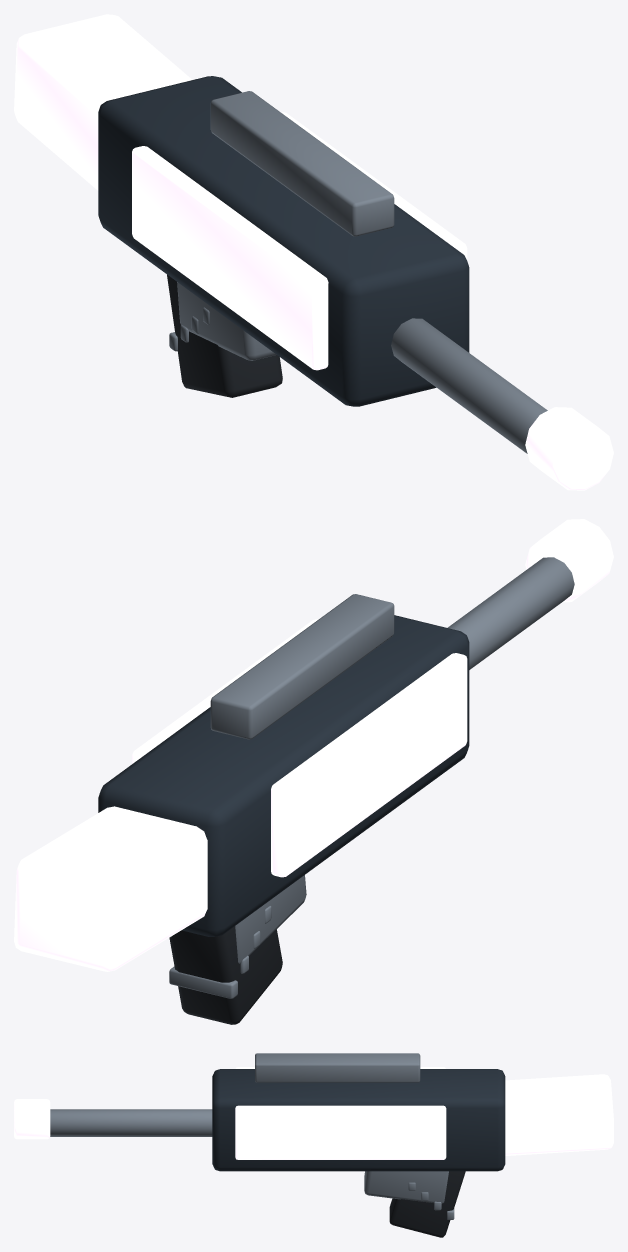
Rendered from Infiltrator_RhinoSMG.fbx.
3 views of the same model, one above another, from view 1: azimuth 30°, elevation 25°; view 2: azimuth 150°, elevation 25°; view 3: azimuth 270°, elevation 25° (orthographic). The views are drawn at different scales.
Visible parts, largest first — view 1: Receiver.005, SideArmorLeft.002, Stock.002, TopRail.005, Barrel_00.002, MuzzleBrake.002, Grip.005, CompactMagazine, SideArmorRight.002; view 2: Receiver.005, Stock.002, SideArmorLeft.002, TopRail.005, Grip.005, Barrel_00.002, MuzzleBrake.002, CompactMagazine, SideArmorRight.002, GripRib_03.005; view 3: Receiver.005, SideArmorRight.002, Stock.002, TopRail.005, Barrel_00.002, CompactMagazine, Grip.005, MuzzleBrake.002.
Part boxes in pixels (<box>): Receiver.005: <box>98,76,469,406</box>; SideArmorLeft.002: <box>132,146,328,370</box>; Stock.002: <box>14,14,192,190</box>; TopRail.005: <box>210,91,394,236</box>; Barrel_00.002: <box>391,318,547,453</box>; MuzzleBrake.002: <box>525,407,613,490</box>; Grip.005: <box>167,274,282,397</box>; CompactMagazine: <box>177,282,276,360</box>; SideArmorRight.002: <box>281,112,467,260</box>; Receiver.005: <box>98,615,469,936</box>; Stock.002: <box>14,806,207,971</box>; SideArmorLeft.002: <box>271,653,467,877</box>; TopRail.005: <box>210,594,394,739</box>; Grip.005: <box>169,926,282,1024</box>; Barrel_00.002: <box>447,557,574,669</box>; MuzzleBrake.002: <box>525,519,613,602</box>; CompactMagazine: <box>235,875,306,963</box>; SideArmorRight.002: <box>132,619,318,763</box>; GripRib_03.005: <box>169,966,237,998</box>; Receiver.005: <box>212,1069,505,1171</box>; SideArmorRight.002: <box>235,1105,446,1159</box>; Stock.002: <box>505,1074,613,1155</box>; TopRail.005: <box>255,1053,420,1082</box>; Barrel_00.002: <box>50,1109,212,1136</box>; CompactMagazine: <box>364,1171,448,1203</box>; Grip.005: <box>389,1171,465,1237</box>; MuzzleBrake.002: <box>14,1099,50,1139</box>.
Size of the model in its own units: 96 by 179 by 563.
